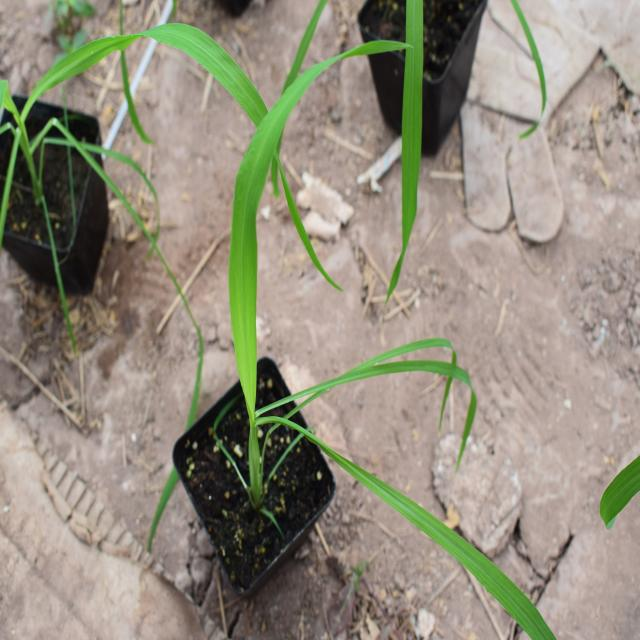barnyard_grass: (223, 50, 549, 628)
